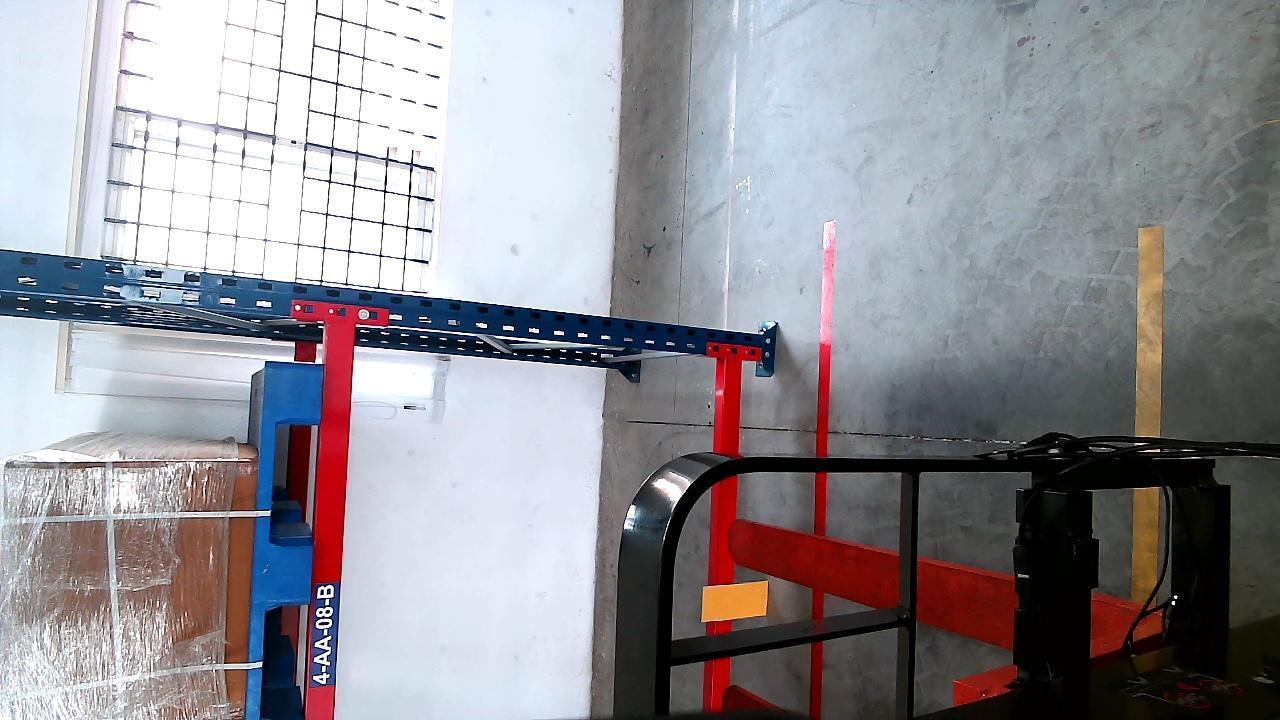red_line: (806, 219, 839, 717)
yellow_line: (1129, 221, 1163, 604)
